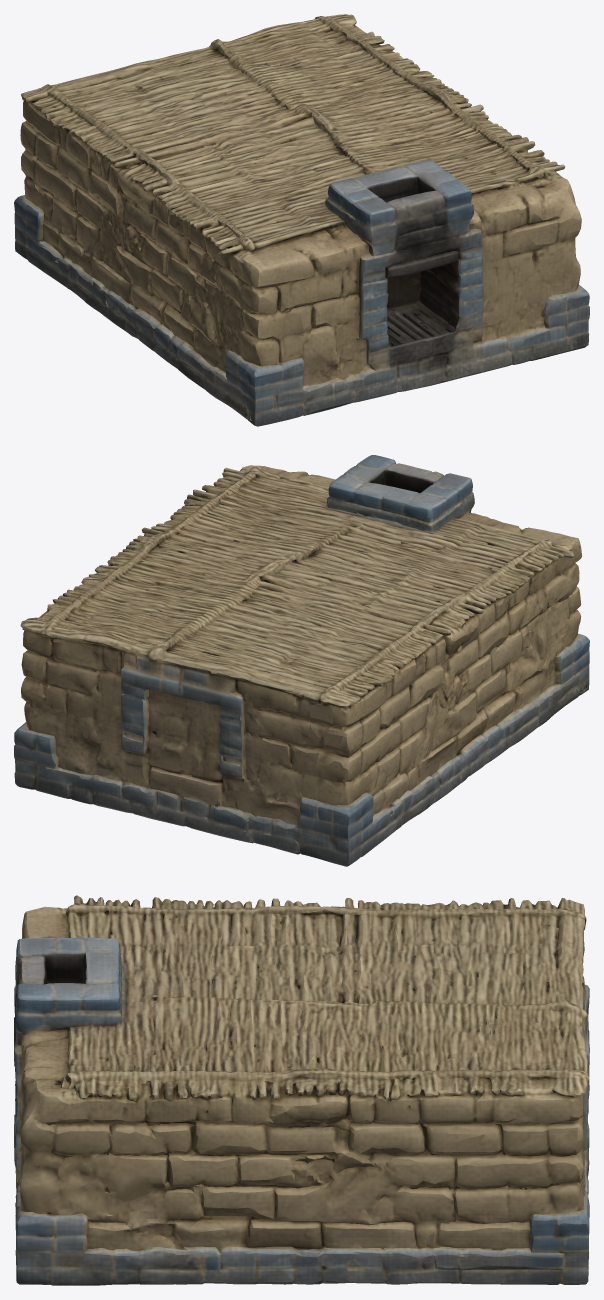
Rendered from kang.glb.
3 views of the same model, one above another, from view 1: azimuth 30°, elevation 25°; view 2: azimuth 150°, elevation 25°; view 3: azimuth 270°, elevation 25° (orthographic). The views are drawn at different scales.
Visible parts, largest first — view 1: world; view 2: world; view 3: world.
Part boxes in pixels (x1=…): world: x1=14, y1=14, x2=589, y2=426; world: x1=14, y1=455, x2=589, y2=866; world: x1=14, y1=895, x2=589, y2=1285.
Size of the model in its own units: 0.32 by 0.1648 by 0.3848.
Materials: 1 (1 with a texture image).
